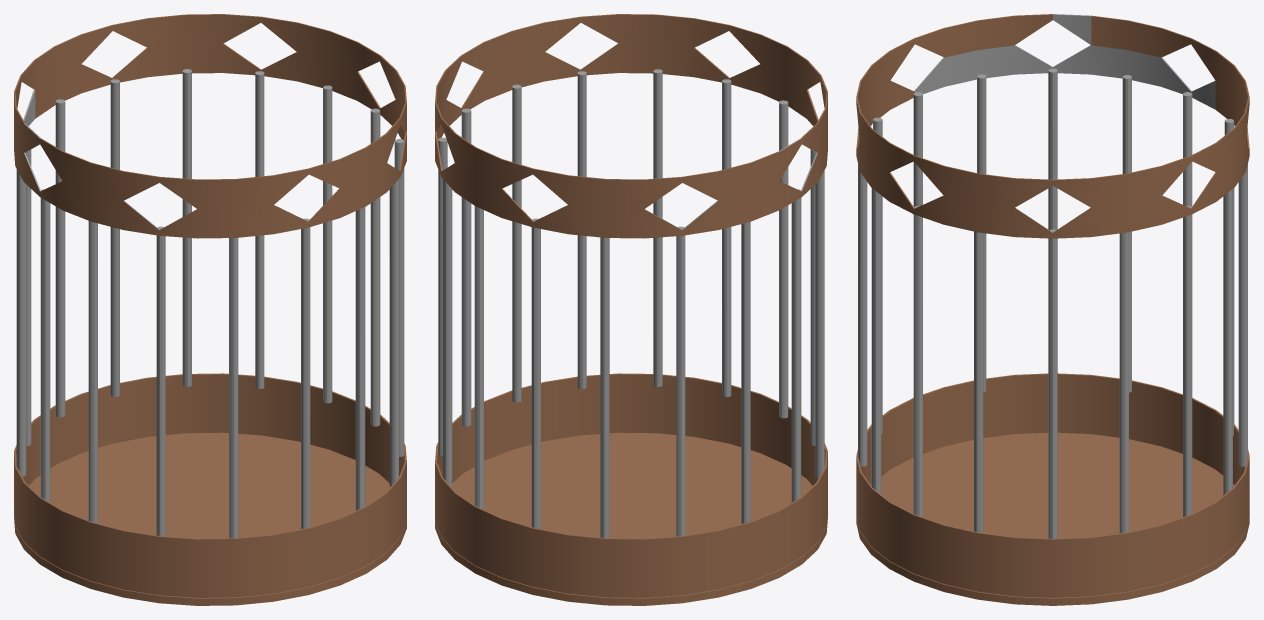
The model's file is bottomOfcage.fbx.
3 renders of one model, left to right at view 1: azimuth 30°, elevation 25°; view 2: azimuth 150°, elevation 25°; view 3: azimuth 270°, elevation 25°, orthographic.
Visible parts, largest first — view 1: Cylinder, Cylinder.023, Cylinder.005, Cylinder.015, Cylinder.013, Cylinder.008, Cylinder.004, Cylinder.012, Cylinder.016, Cylinder.007, Cylinder.017, Cylinder.003 (+6 smaller); view 2: Cylinder, Cylinder.023, Cylinder.005, Cylinder.009, Cylinder.002, Cylinder.017, Cylinder.013, Cylinder.010, Cylinder.006, Cylinder.016, Cylinder.003, Cylinder.011 (+6 smaller); view 3: Cylinder, Cylinder.023, Cylinder.015, Cylinder.003, Cylinder.006, Cylinder.007, Cylinder.011, Cylinder.014, Cylinder.010, Cylinder.002, Cylinder.004, Cylinder.016 (+6 smaller).
Boxes of the visible parts, x1,y1,x2,y2 form: Cylinder: (14,373,406,605); Cylinder.023: (14,14,406,238); Cylinder.005: (40,189,50,502); Cylinder.015: (355,207,365,510); Cylinder.013: (16,169,26,476); Cylinder.008: (156,226,165,536); Cylinder.004: (301,218,310,528); Cylinder.012: (229,238,238,538); Cylinder.016: (88,221,97,523); Cylinder.007: (389,179,398,486); Cylinder.017: (55,99,65,417); Cylinder.003: (370,108,380,426); Cylinder: (435,373,827,605); Cylinder.023: (435,14,827,238); Cylinder.005: (791,189,801,502); Cylinder.009: (676,226,685,536); Cylinder.002: (531,218,540,528); Cylinder.017: (600,237,609,538); Cylinder.013: (741,221,750,523); Cylinder.010: (474,206,483,509); Cylinder.006: (443,179,452,486); Cylinder.016: (815,170,824,477); Cylinder.003: (461,108,471,426); Cylinder.011: (512,84,521,402); Cylinder: (856,373,1249,605); Cylinder.023: (856,14,1249,238); Cylinder.015: (871,188,881,493); Cylinder.003: (1048,229,1057,538); Cylinder.006: (1183,206,1192,516); Cylinder.007: (913,206,922,516); Cylinder.011: (974,231,983,532); Cylinder.014: (1119,232,1128,533); Cylinder.010: (1223,189,1232,494); Cylinder.002: (1238,164,1247,466); Cylinder.004: (858,164,867,466); Cylinder.016: (977,74,986,391).
Bounding box in the file's own units: 200 × 239 × 200.
